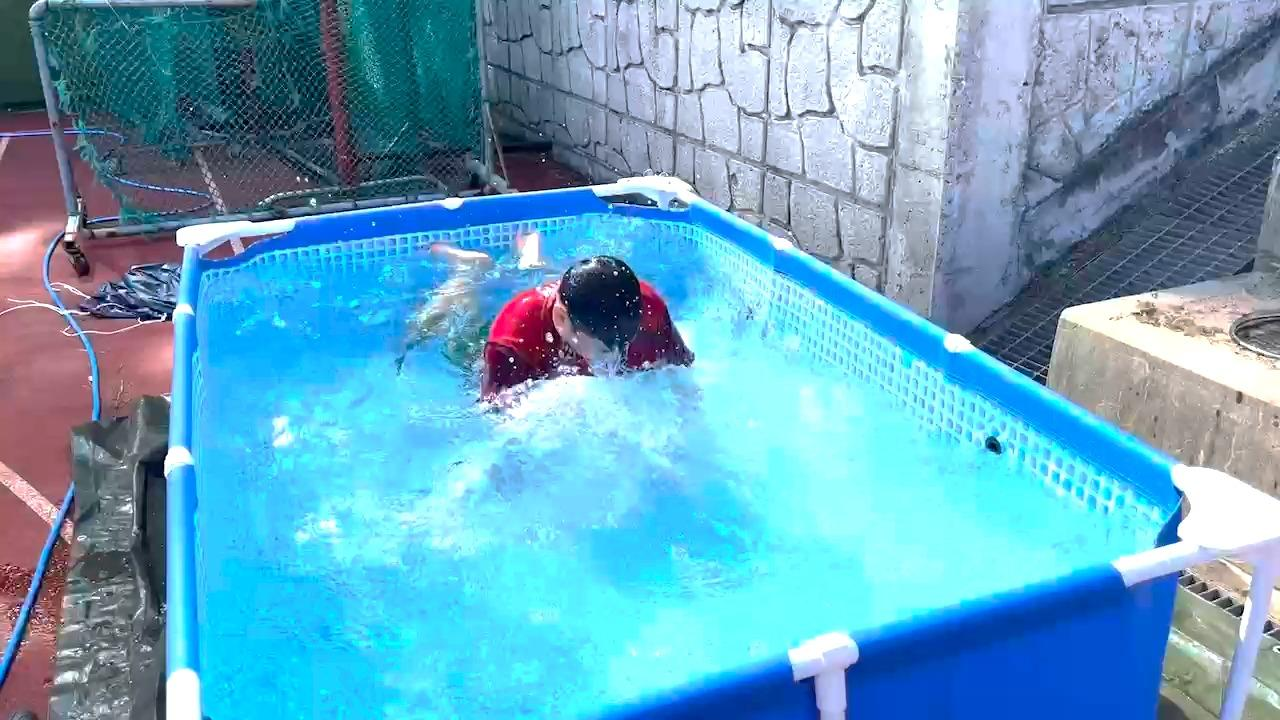Drowning: (418, 235, 727, 443)
